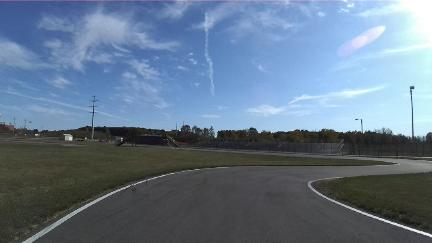Grass: (0, 141, 386, 242), (316, 173, 431, 231)
Lane: (36, 158, 431, 242)
